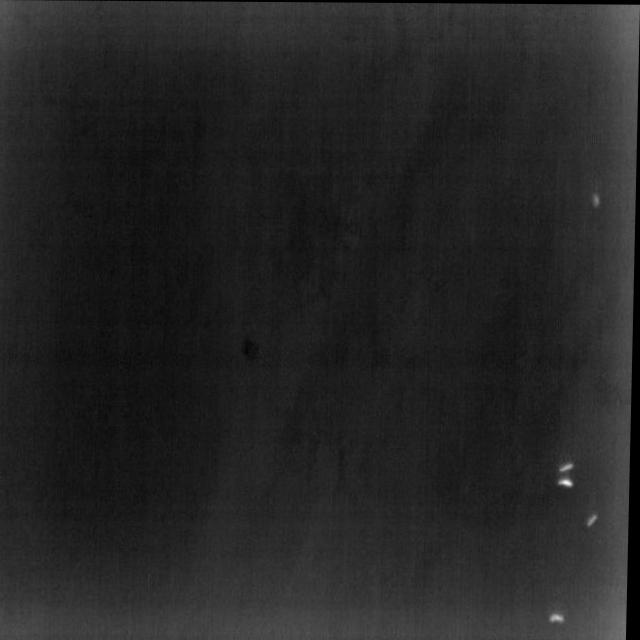deer: (551, 613, 568, 623), (559, 477, 576, 487), (561, 461, 576, 471), (589, 514, 600, 525)
